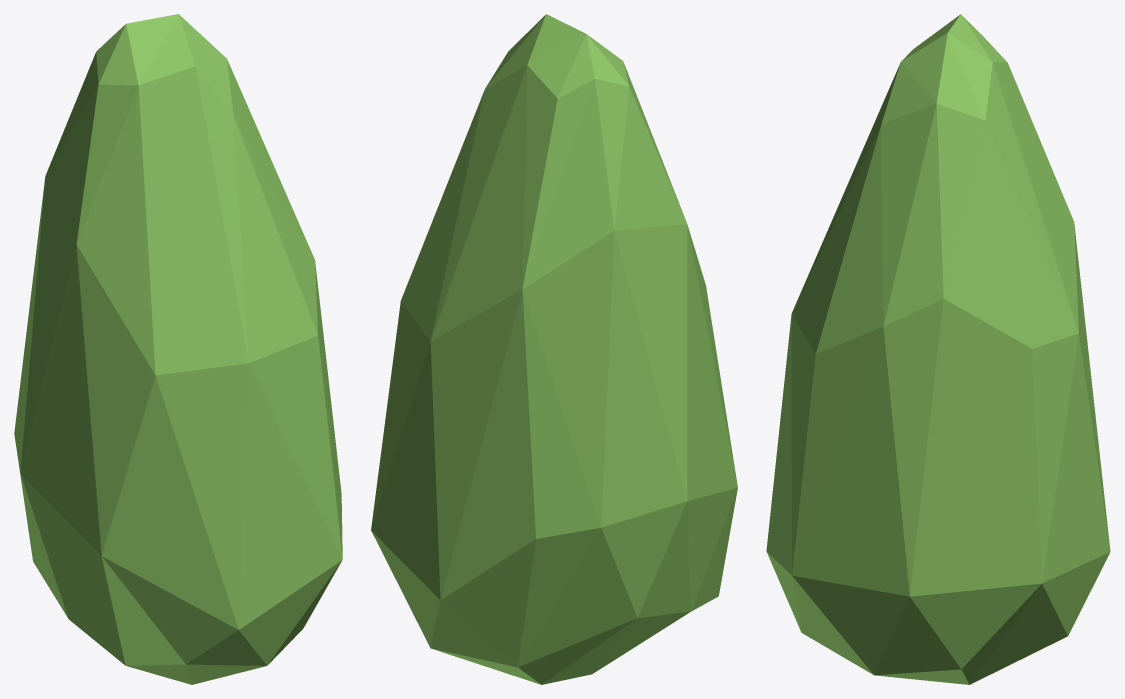
The model's file is Thuja_BushTree_m_06.fbx.
3 renders of one model, left to right at view 1: azimuth 30°, elevation 25°; view 2: azimuth 150°, elevation 25°; view 3: azimuth 270°, elevation 25°, orthographic. The views are drawn at different scales.
Parts seen in each view (by area): view 1: Thuja_BushTree_m_06; view 2: Thuja_BushTree_m_06; view 3: Thuja_BushTree_m_06.
Part boxes in pixels (x1=…): Thuja_BushTree_m_06: x1=14, y1=14, x2=342, y2=684; Thuja_BushTree_m_06: x1=371, y1=14, x2=737, y2=684; Thuja_BushTree_m_06: x1=766, y1=14, x2=1110, y2=684.
Bounding box in the file's own units: 174 × 364 × 181.
